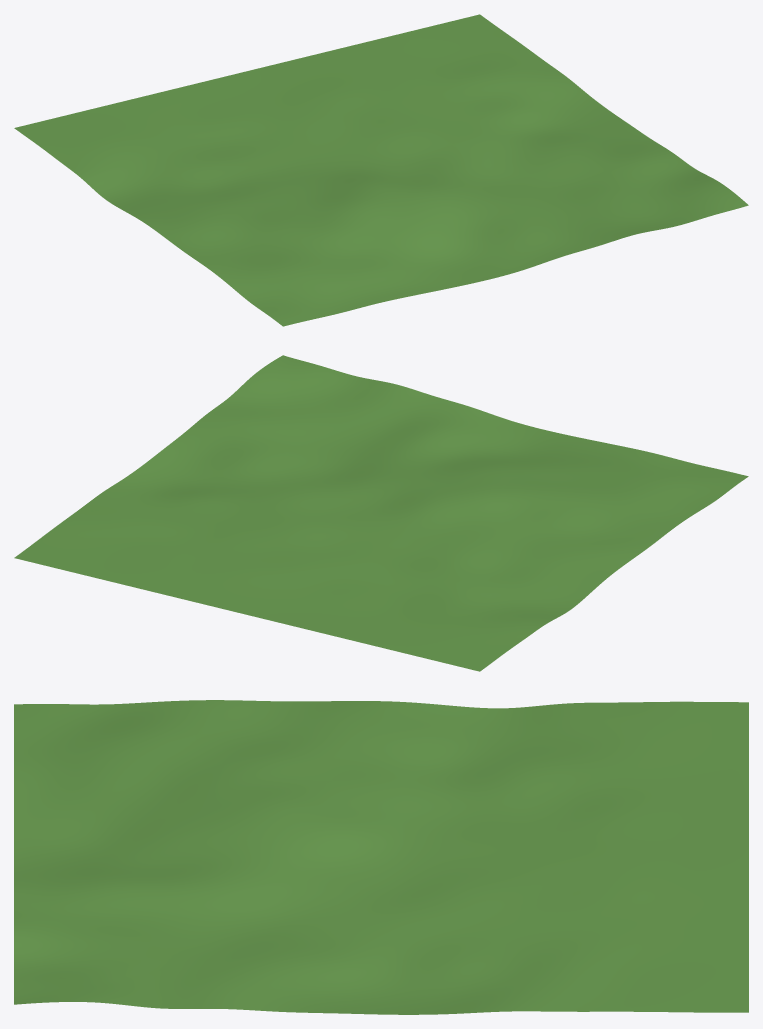
Rendered from SM_Terrain_01_00.fbx.
The picture shows the model from 3 angles, top to bottom: view 1: azimuth 30°, elevation 25°; view 2: azimuth 150°, elevation 25°; view 3: azimuth 270°, elevation 25°; orthographic projection. The views are drawn at different scales.
Visible parts, largest first — view 1: SM_Terrain_01_00; view 2: SM_Terrain_01_00; view 3: SM_Terrain_01_00.
Part boxes in pixels (<box>): SM_Terrain_01_00: <box>14,14,748,326</box>; SM_Terrain_01_00: <box>14,355,748,671</box>; SM_Terrain_01_00: <box>14,700,748,1014</box>.
Size of the model in its own units: 384 by 10.88 by 384.
